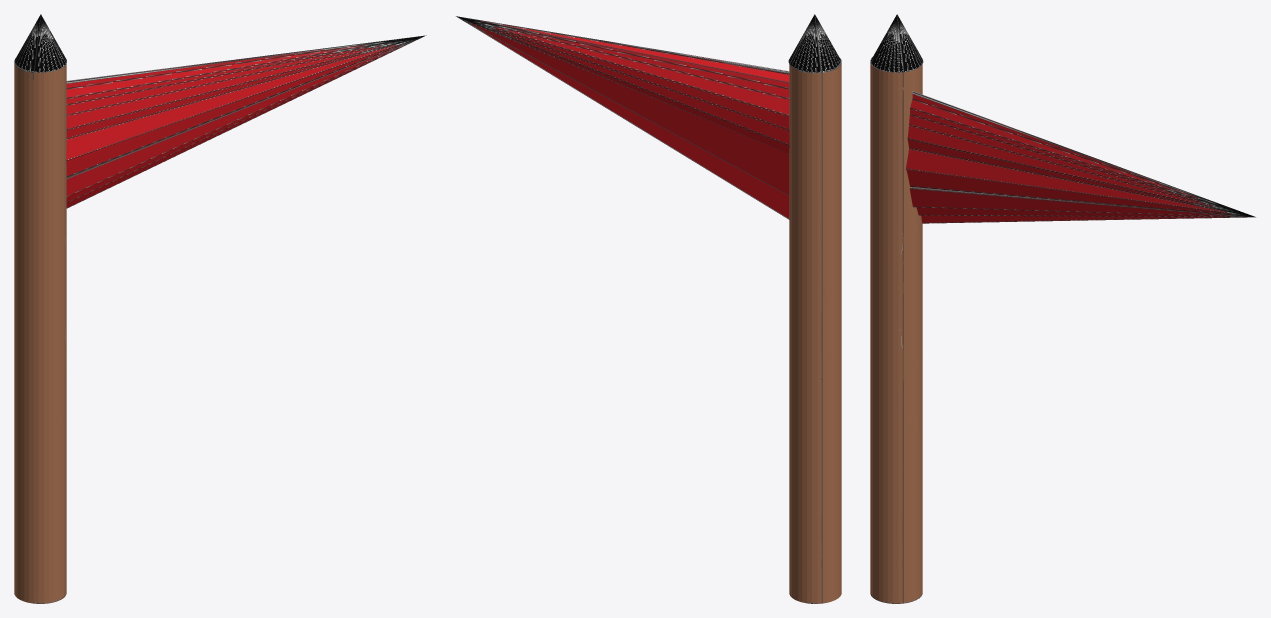
Rendered from blueflag.obj.
3 views of the same model, side by side, from view 1: azimuth 30°, elevation 25°; view 2: azimuth 150°, elevation 25°; view 3: azimuth 330°, elevation 25° (orthographic).
Parts seen in each view (by area): view 1: Cylinder_Cylinder.002; view 2: Cylinder_Cylinder.002; view 3: Cylinder_Cylinder.002.
Part boxes in pixels (x1,y1,x2,y2): Cylinder_Cylinder.002: (14,14,426,603); Cylinder_Cylinder.002: (456,14,841,603); Cylinder_Cylinder.002: (870,14,1255,603).
Bounding box in the file's own units: 17.41 × 24.32 × 2.01.
